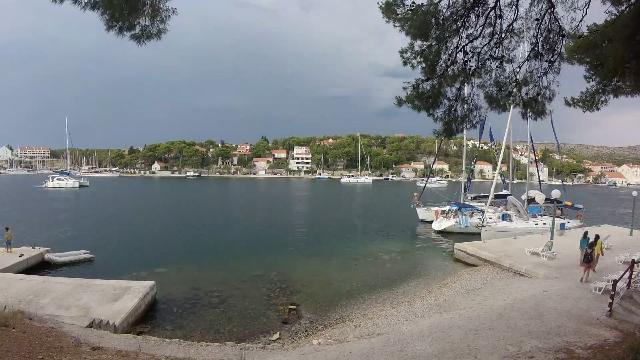Sailboat: (38, 170, 96, 190), (337, 170, 377, 188)
